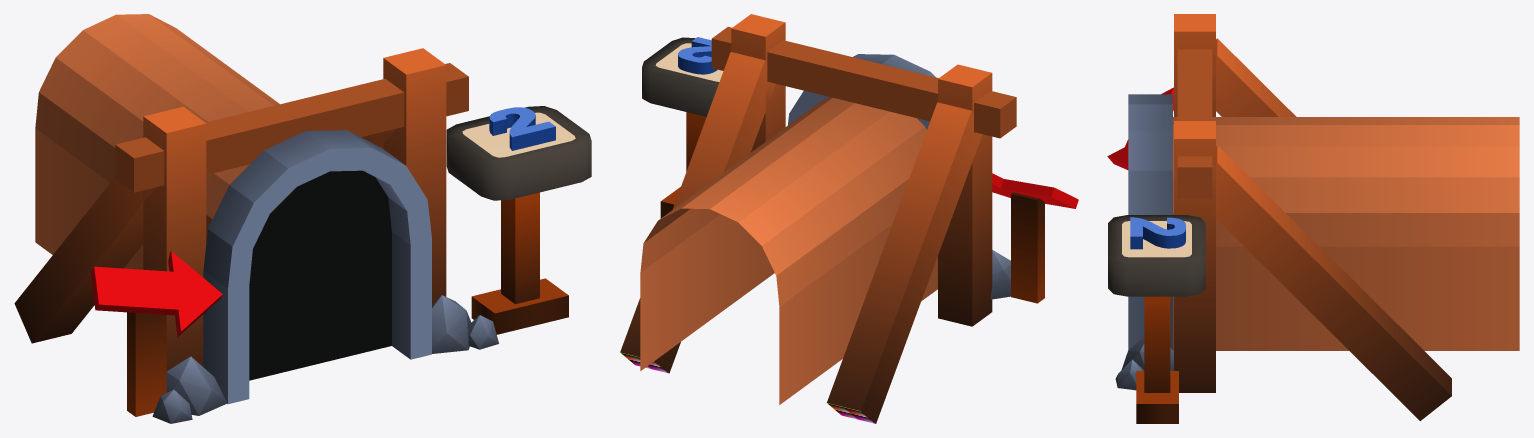
File: Red_2_R.fbx
3 views of the same model, side by side, from view 1: azimuth 30°, elevation 25°; view 2: azimuth 150°, elevation 25°; view 3: azimuth 270°, elevation 25° (orthographic). The views are drawn at different scales.
Visible parts, largest first — view 1: tunel.007, tunel.008, Text.006; view 2: tunel.007, tunel.008, Text.006; view 3: tunel.007, Text.006, tunel.008.
Boxes of the visible parts, <box> form: tunel.007: <box>14,14,591,423</box>; tunel.008: <box>90,251,222,336</box>; Text.006: <box>489,107,555,150</box>; tunel.007: <box>620,14,1044,423</box>; tunel.008: <box>992,173,1078,208</box>; Text.006: <box>678,37,717,74</box>; tunel.007: <box>1108,14,1519,423</box>; Text.006: <box>1130,217,1185,249</box>; tunel.008: <box>1107,87,1173,169</box>.
Size of the model in its own units: 763 by 468 by 619.
